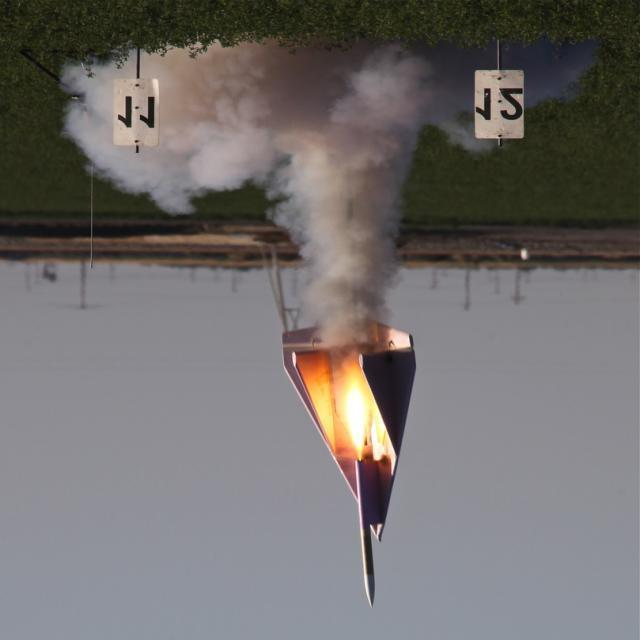missile: (352, 452, 394, 605)
